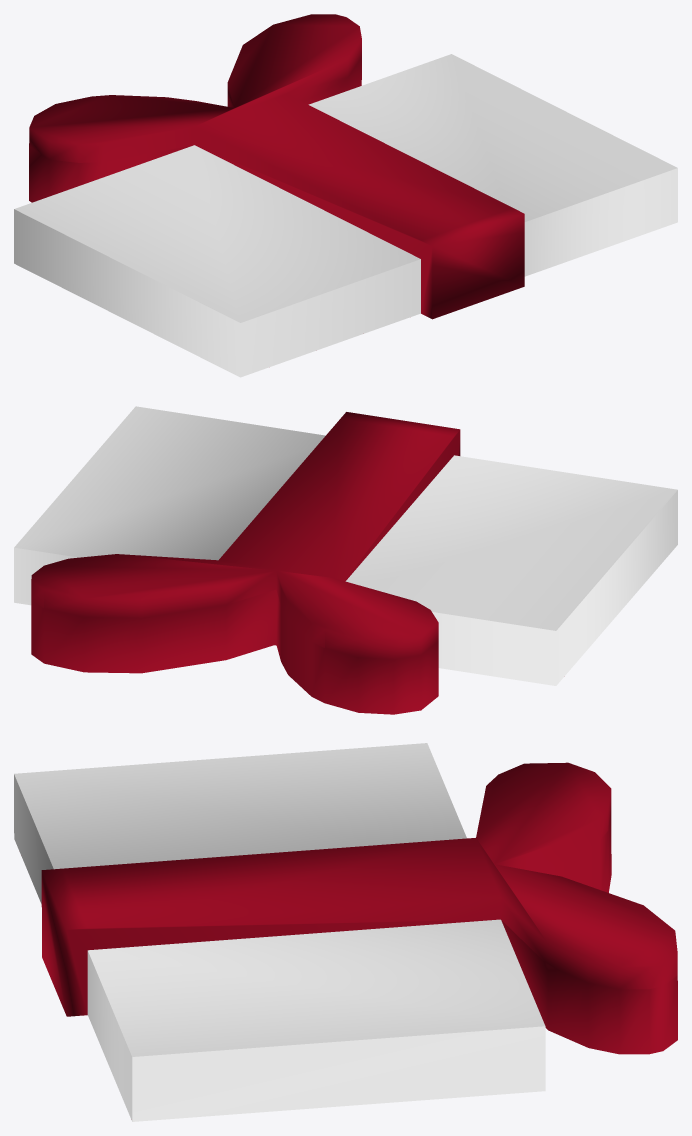
File: red_present.glb
3 renders of one model, top to bottom at view 1: azimuth 30°, elevation 25°; view 2: azimuth 150°, elevation 25°; view 3: azimuth 270°, elevation 25°, orthographic. The views are drawn at different scales.
Parts seen in each view (by area): view 1: Plane.002; view 2: Plane.002; view 3: Plane.002.
Part boxes in pixels (x1,y1,x2,y2): Plane.002: [14, 14, 677, 377]; Plane.002: [14, 406, 677, 714]; Plane.002: [14, 743, 677, 1121].
Size of the model in its own units: 1.16 by 0.1518 by 1.03.
